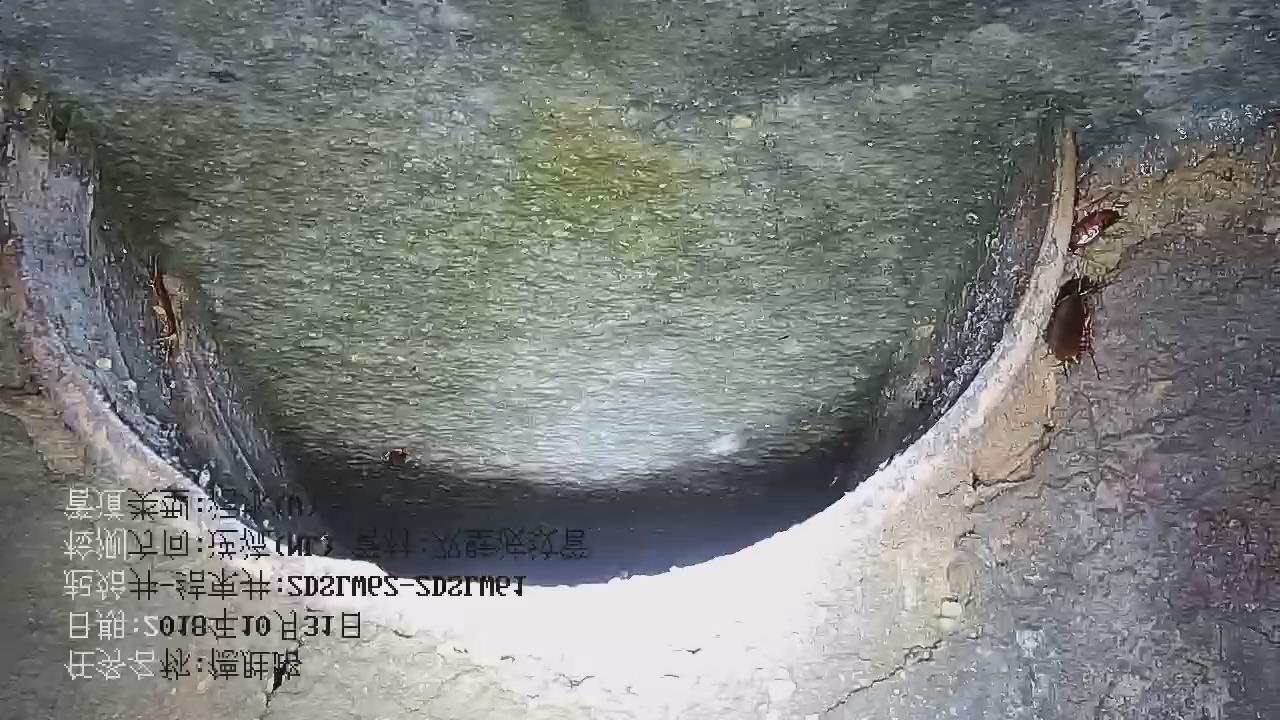FZ: (0, 1, 1137, 504)
